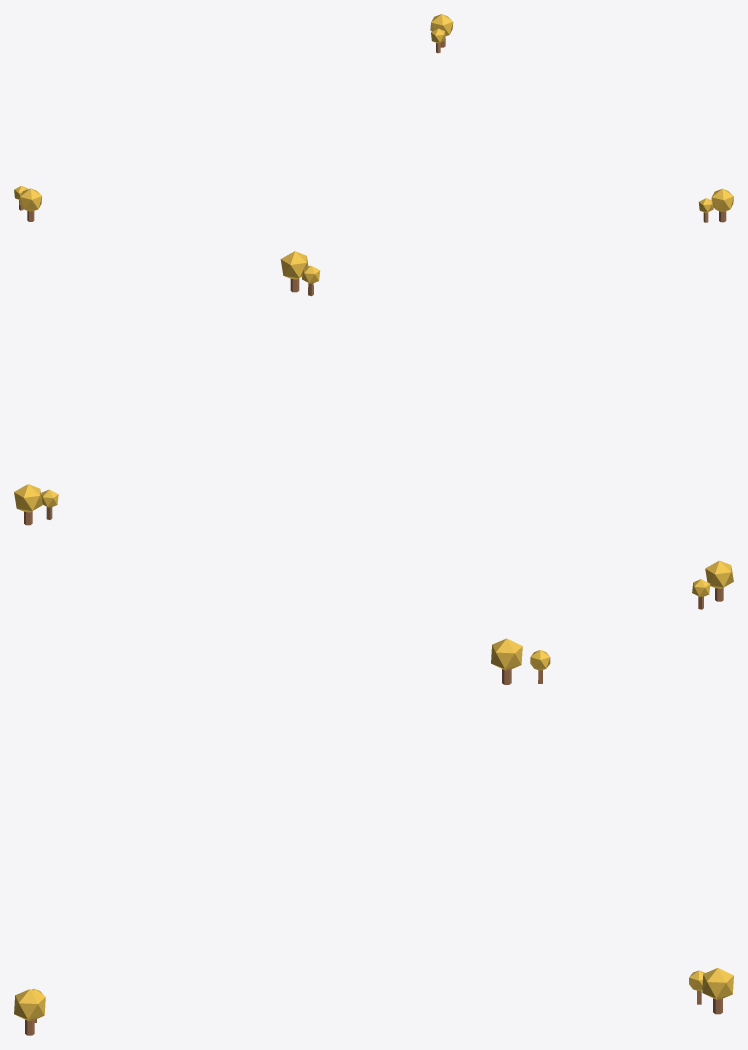
The model's file is 011_イチョウ.glb.
3 views of the same model, one above another, from view 1: azimuth 30°, elevation 25°; view 2: azimuth 150°, elevation 25°; view 3: azimuth 270°, elevation 25° (orthographic). The views are drawn at different scales.
Visible parts, largest first — view 1: 球093; view 2: 球093, 球093_1; view 3: 球093.
Boxes of the visible parts, x1=… form: 球093: x1=14, y1=14, x2=733, y2=212; 球093: x1=14, y1=251, x2=733, y2=597; 球093_1: x1=24, y1=278, x2=723, y2=609; 球093: x1=14, y1=638, x2=733, y2=1021.
Bounding box in the file's own units: 77.32 × 4.51 × 64.72.
